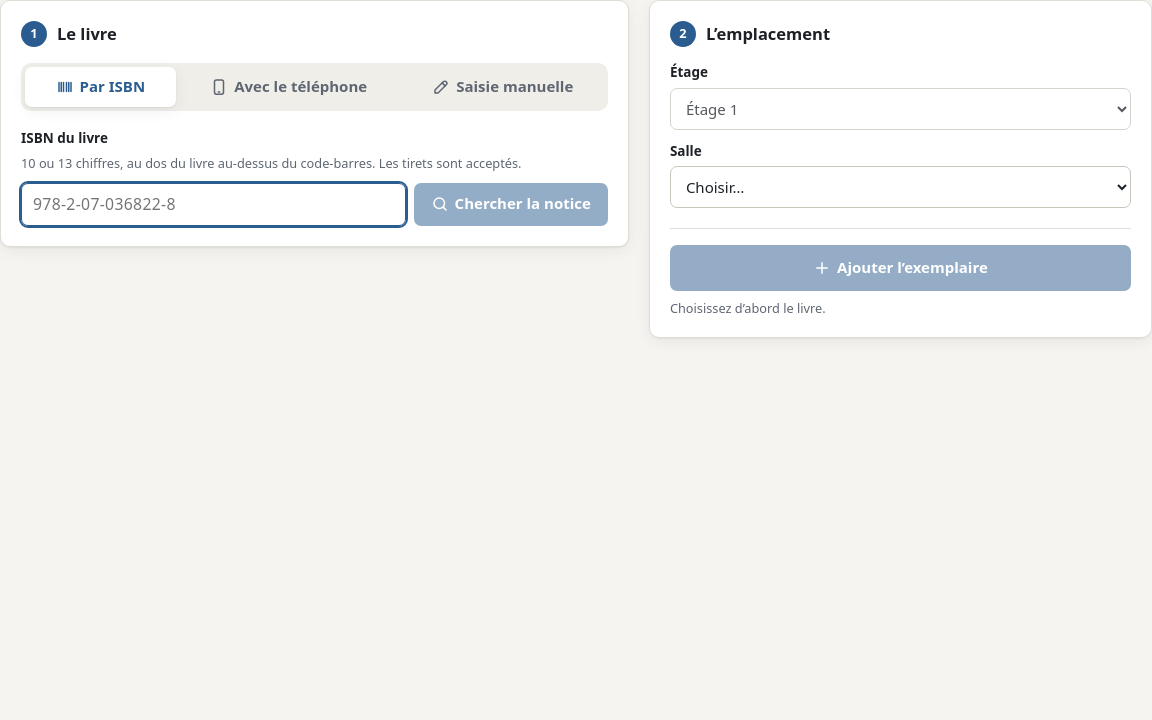
Test: EcranAjout › par ISBN › si le catalogue tombe entre l’aperçu et l’ajout, enregistre la notice affichée
The image size is (1152, 720).
In the field labelled "ISBN du livre": (213, 204) [21,183,406,226], type "9782070368228"
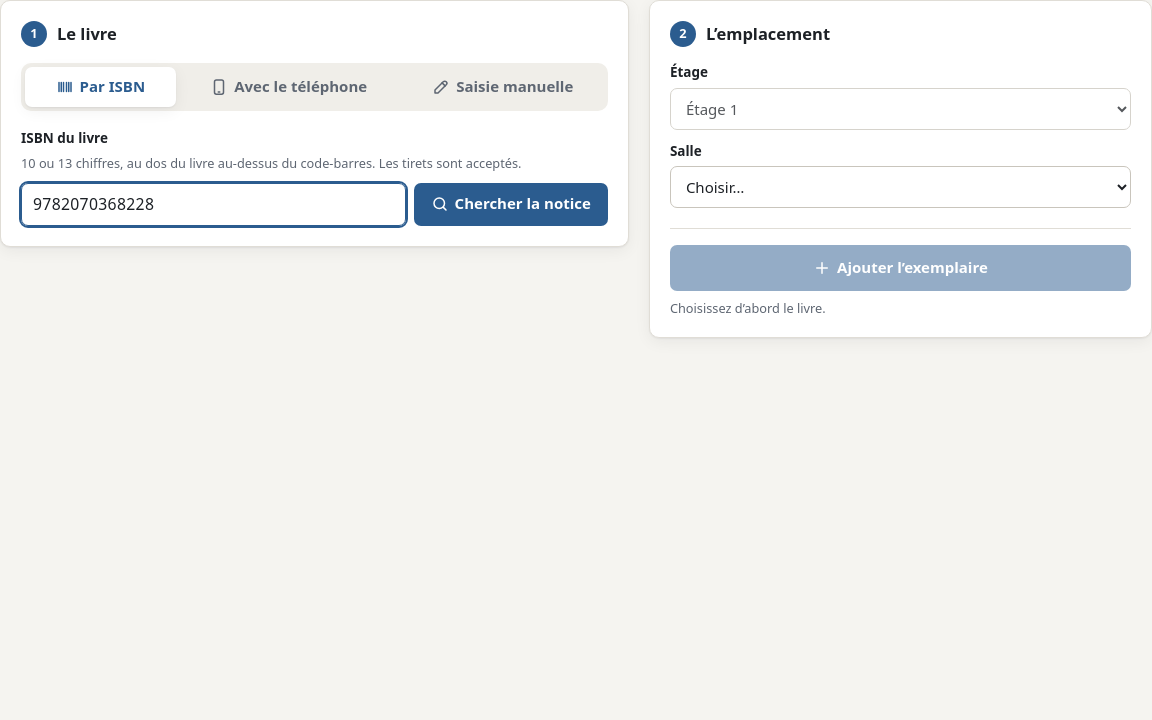
Click the button "Chercher la notice": (511, 204) [414,183,608,226]
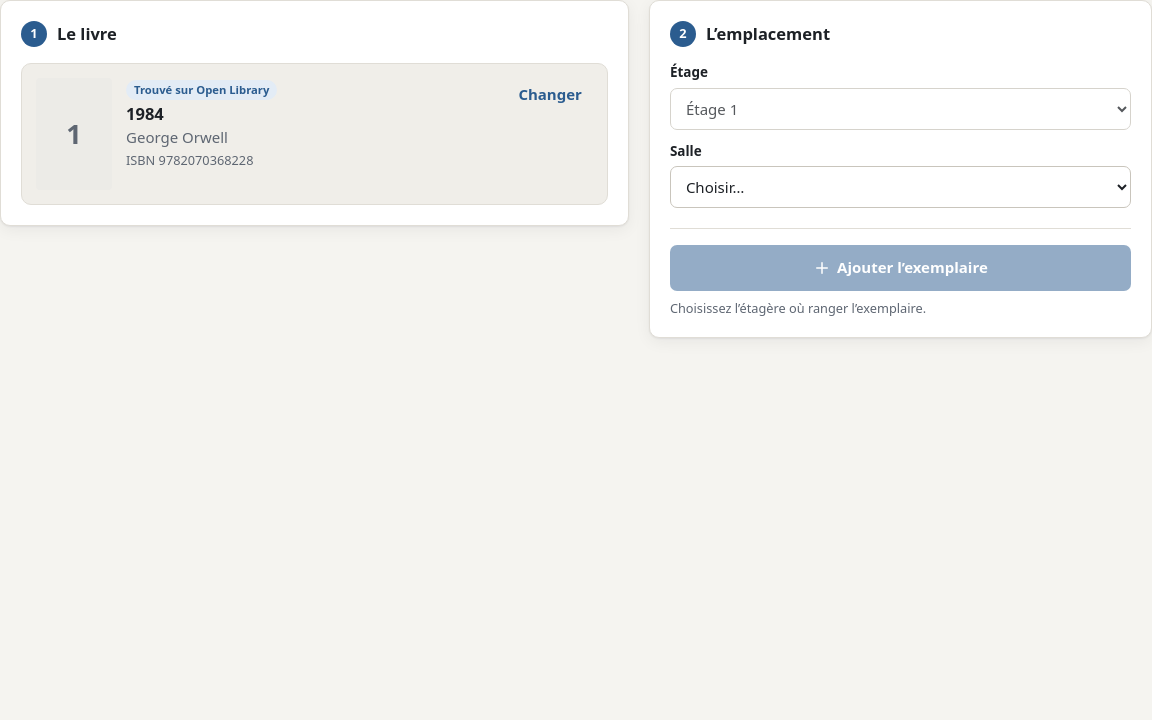
Expected: the element named "Livre choisi : 1984" is shown, [21,63,608,205]
Select "Salle A" in the dropdown labelled "Salle": (900, 187) [670,166,1131,208]
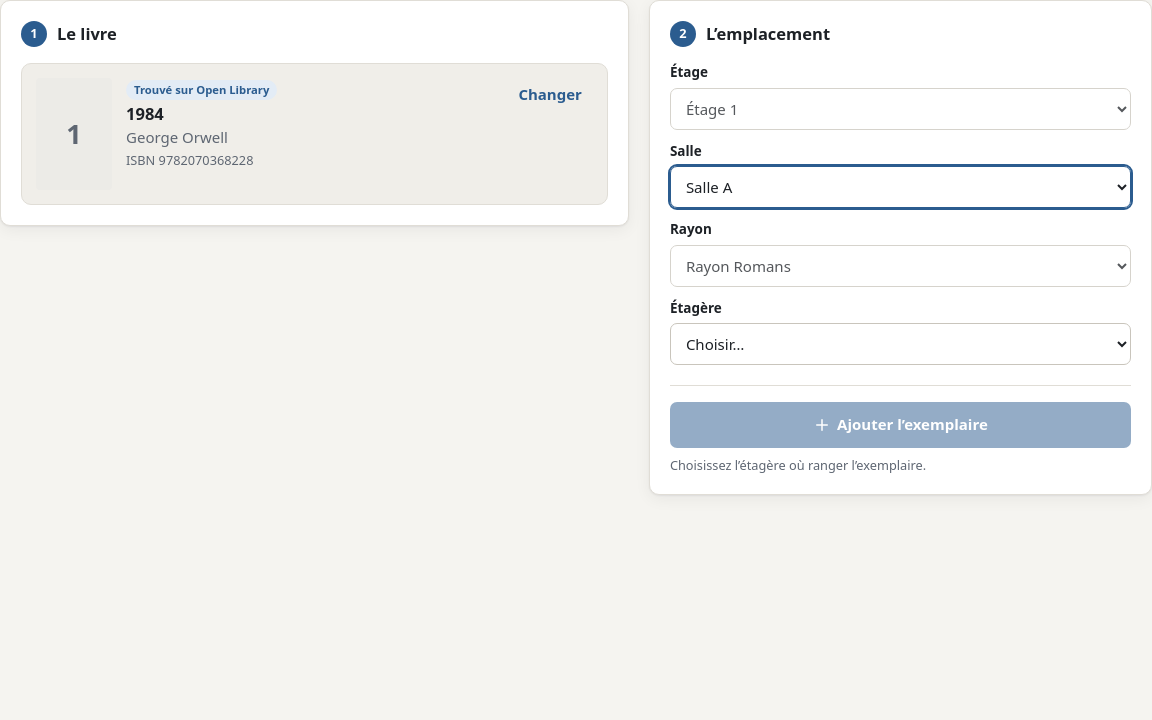
Select "Étagère Romans 2" in the dropdown labelled "Étagère": (900, 344) [670,323,1131,365]
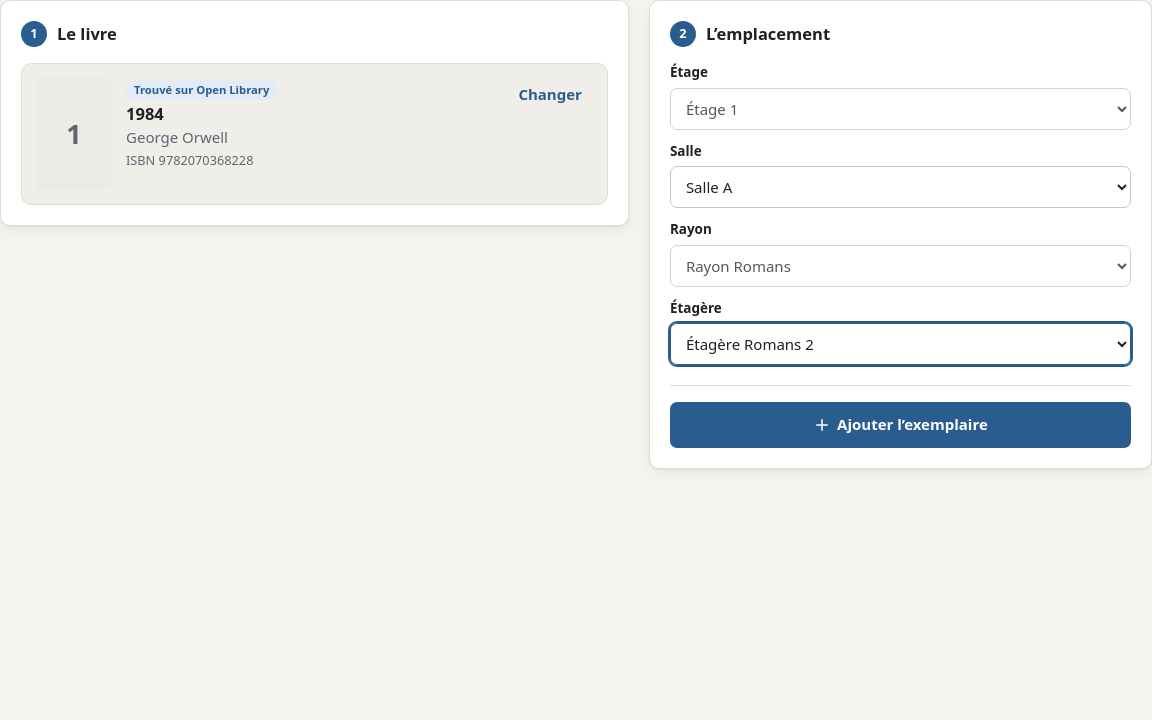
Click the button "Ajouter l’exemplaire": (900, 425) [670,402,1131,448]
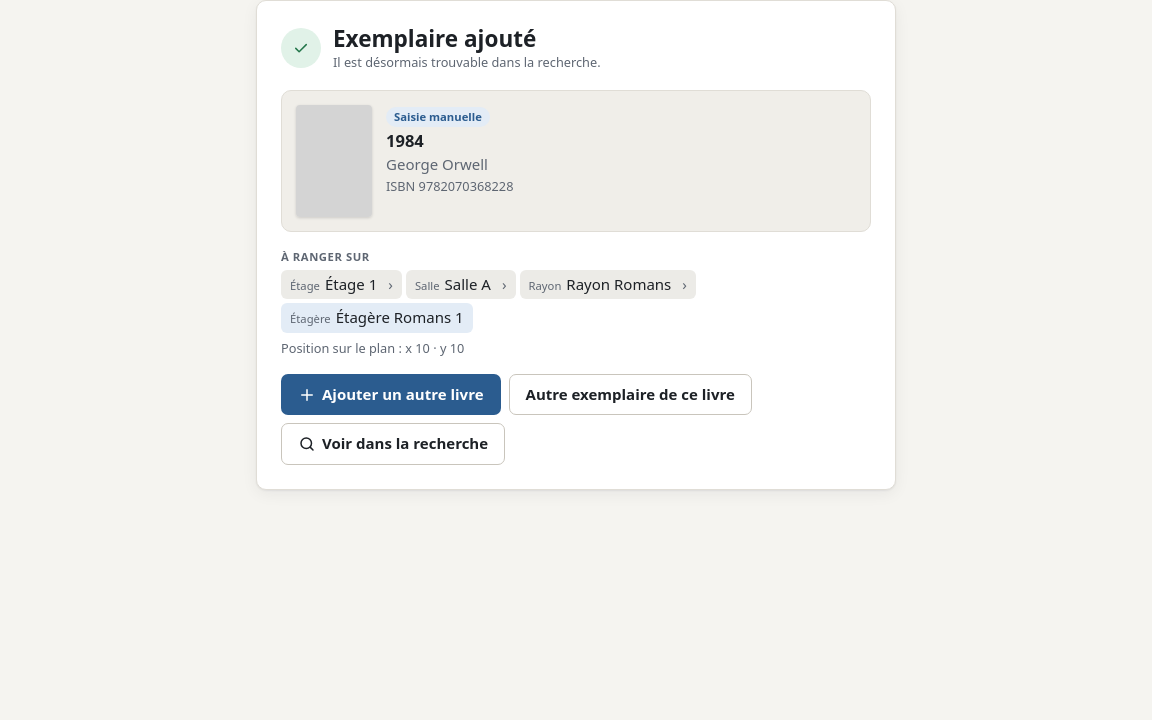
Expected: the heading "Exemplaire ajouté" is shown, [333,23,536,54]
